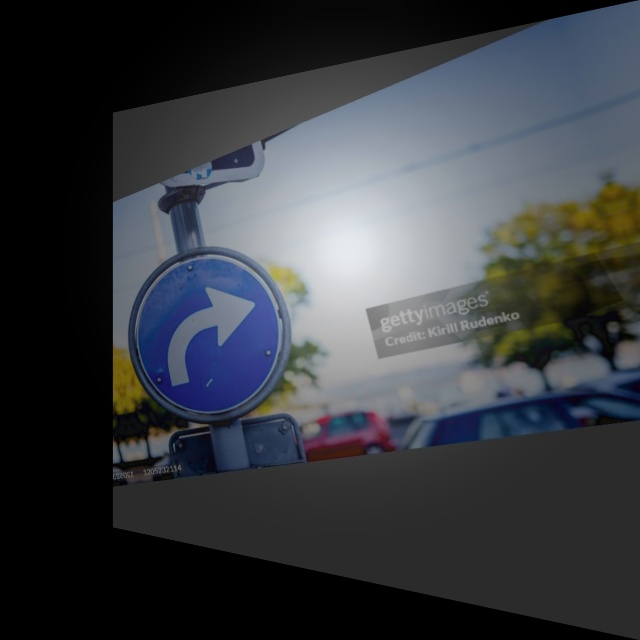Compulsory_Turn_Right_Ahead: (119, 223, 302, 445)
